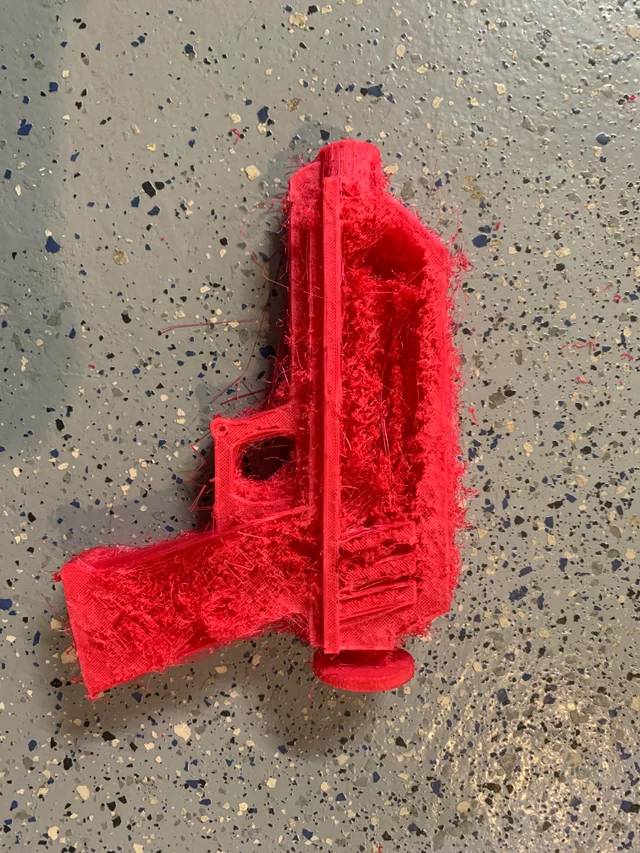Spaghetti: (54, 99, 535, 739)
Stringing or Oozing: (225, 434, 301, 484)
